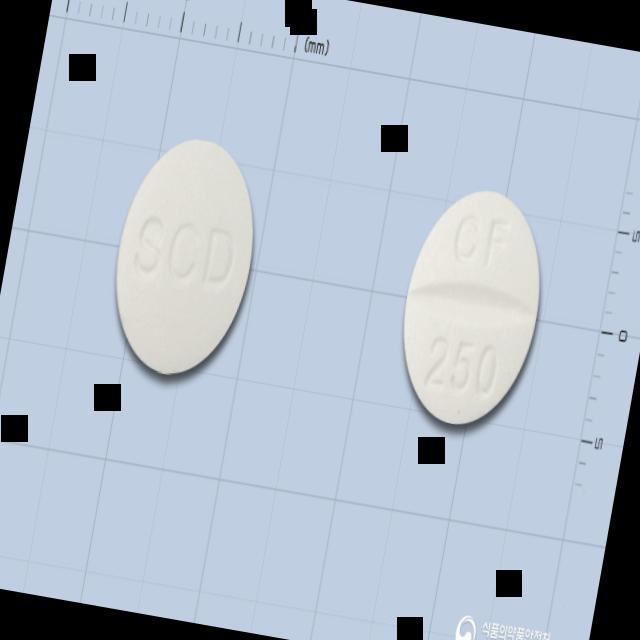Arava: (99, 128, 271, 386), (386, 179, 558, 436)
